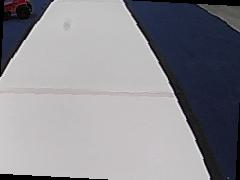Tracktor: (2, 0, 33, 20)
